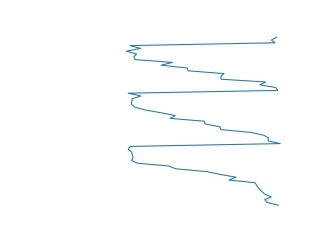distributaryMouthBar: (123, 37, 284, 205)
